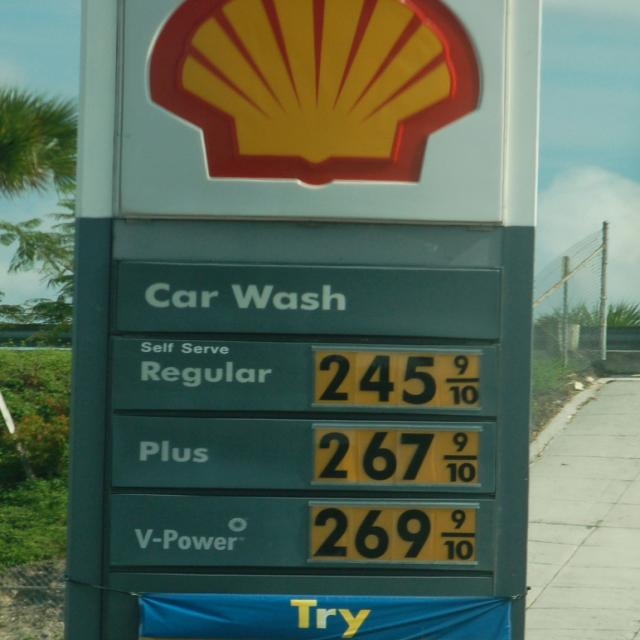shell: (148, 2, 486, 187)
